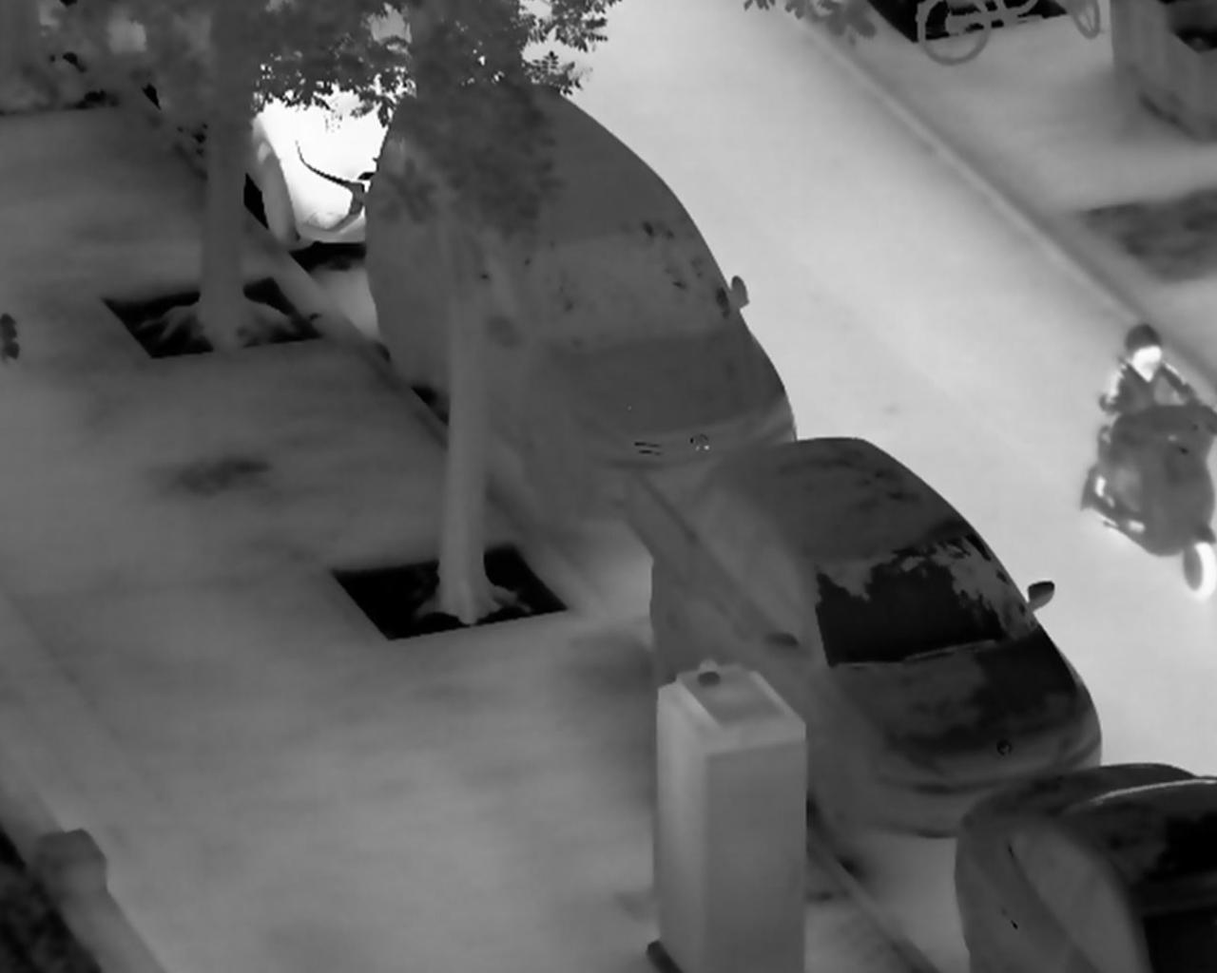person: (1083, 320, 1209, 509)
